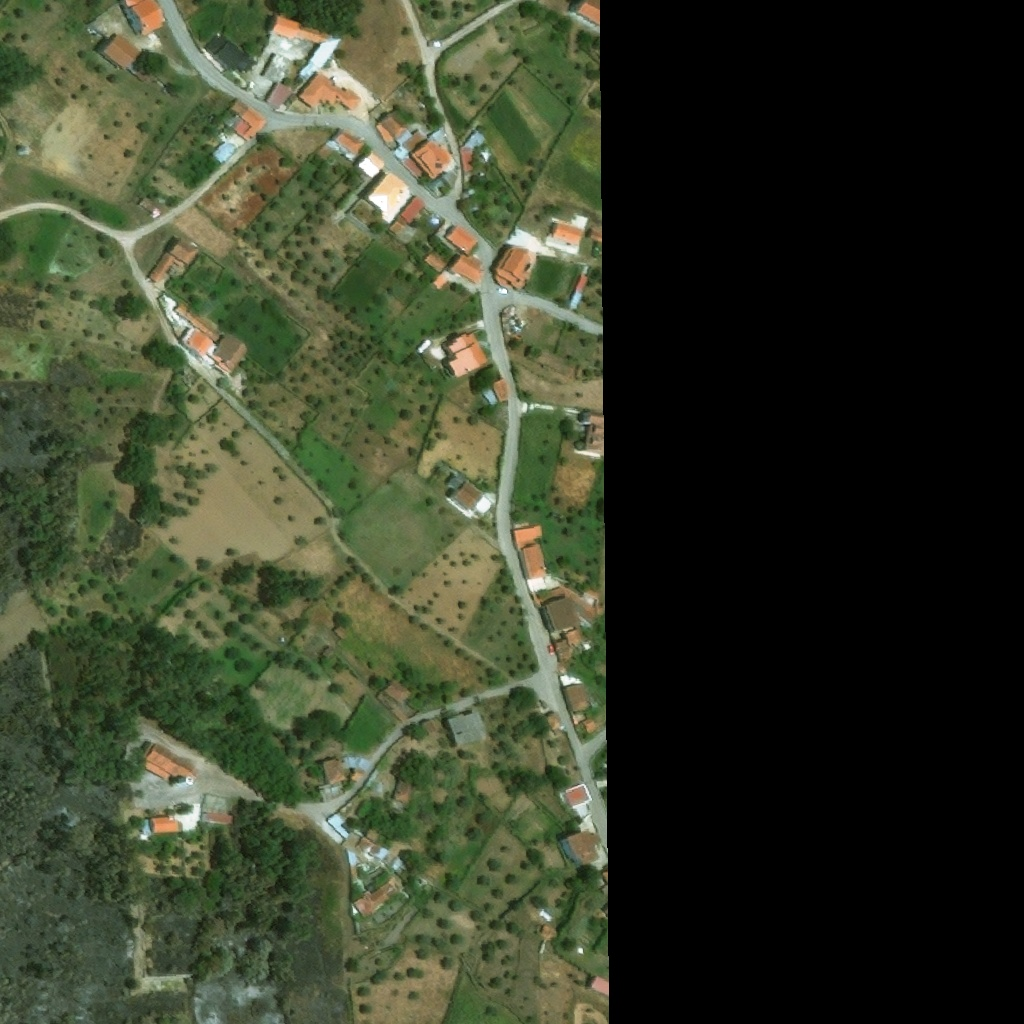0 no-damage: (529, 587, 599, 643), (341, 828, 407, 874), (401, 129, 454, 182), (294, 24, 342, 81), (97, 35, 152, 84), (176, 303, 223, 360), (365, 173, 413, 227), (297, 72, 361, 111), (559, 826, 610, 873), (203, 33, 256, 76), (143, 743, 197, 785), (442, 332, 489, 379), (491, 245, 537, 293), (447, 472, 493, 517), (573, 411, 609, 460), (227, 98, 267, 142), (120, 0, 166, 37), (209, 333, 249, 375), (447, 712, 486, 749), (354, 882, 395, 917), (326, 129, 364, 163), (149, 253, 187, 286), (375, 113, 408, 150), (562, 783, 593, 820), (448, 255, 484, 286), (553, 629, 586, 662), (517, 544, 547, 580), (260, 53, 293, 85), (444, 225, 477, 256), (384, 781, 414, 815), (546, 224, 582, 249), (575, 0, 605, 29), (396, 196, 425, 226), (170, 237, 201, 265), (267, 13, 298, 41), (265, 82, 294, 111), (383, 679, 412, 706), (563, 685, 590, 714), (568, 275, 589, 312), (511, 527, 543, 551), (358, 153, 386, 180), (586, 231, 608, 262), (323, 758, 348, 785), (581, 712, 609, 735), (587, 977, 614, 1000), (423, 251, 447, 274), (152, 816, 181, 834), (492, 380, 509, 403), (201, 814, 234, 825), (376, 693, 397, 710), (539, 926, 558, 943), (544, 714, 561, 732), (481, 388, 497, 407), (391, 707, 409, 723), (388, 222, 406, 238), (333, 625, 349, 641), (431, 277, 446, 292), (321, 647, 336, 661), (349, 770, 364, 782), (141, 819, 152, 834), (350, 866, 359, 881), (18, 148, 28, 157)
4 un-classified: (599, 867, 613, 901), (603, 903, 614, 924)
